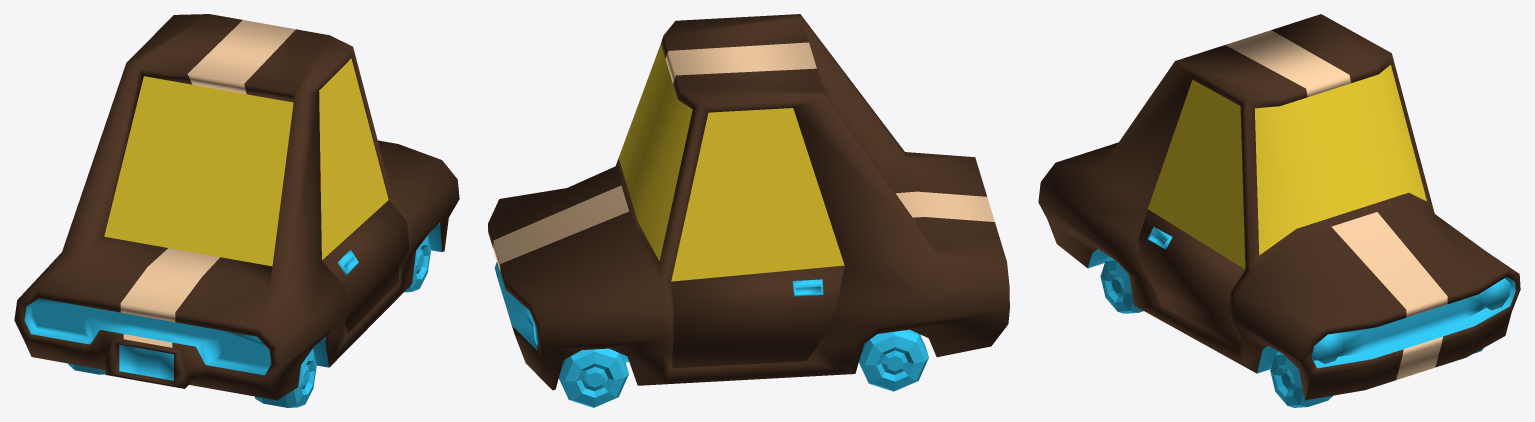
Rendered from ToyObject_158.fbx.
3 renders of one model, left to right at view 1: azimuth 30°, elevation 25°; view 2: azimuth 150°, elevation 25°; view 3: azimuth 270°, elevation 25°, orthographic. The views are drawn at different scales.
Visible parts, largest first — view 1: object-1.061; view 2: object-1.061; view 3: object-1.061.
Part boxes in pixels (bbox=[...]): object-1.061: bbox=[14, 14, 459, 407]; object-1.061: bbox=[488, 14, 1009, 407]; object-1.061: bbox=[1038, 14, 1520, 407].
Bounding box in the file's own units: 0.2196 × 0.1271 × 0.2064.
